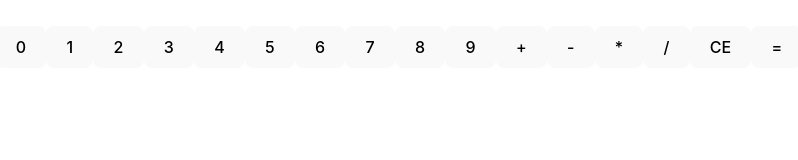
Calculator › should print first number, operator and second number when buttons pressed sequentially
Click the button "1".
click(70, 47)  # box [46,26,93,68]
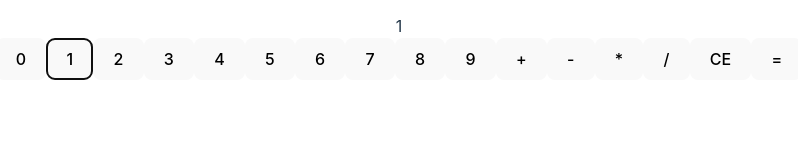
Click the button "+".
click(521, 59)  # box [496,38,547,80]
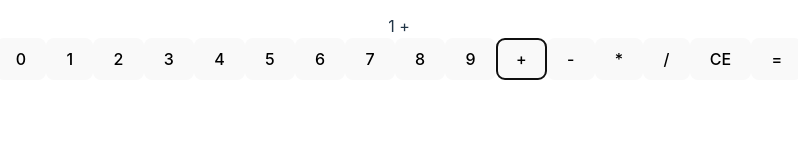
Click the button "2".
click(118, 59)  # box [93,38,144,80]
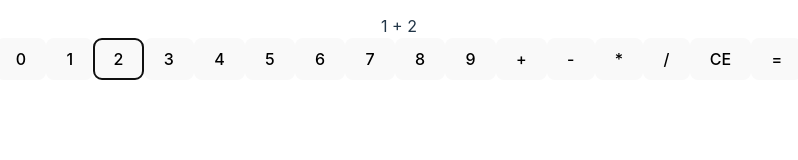
expect the field reads "1 + 2": met, box [381,16,417,36]
